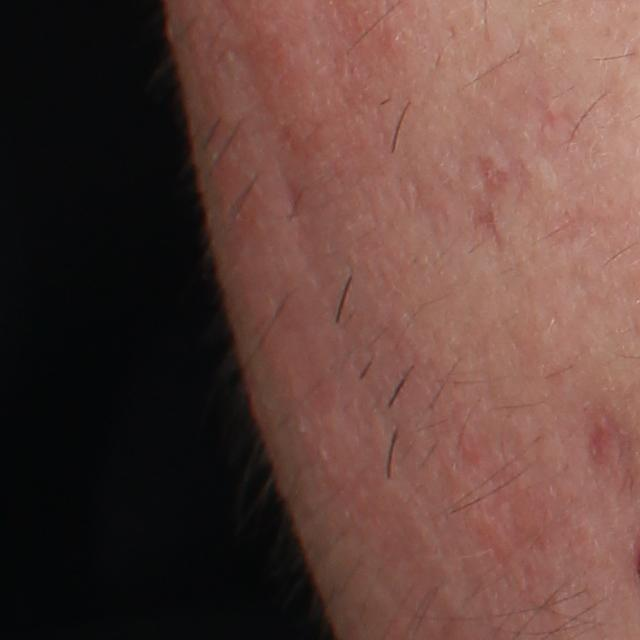atrophic_scar: (463, 153, 527, 255)
